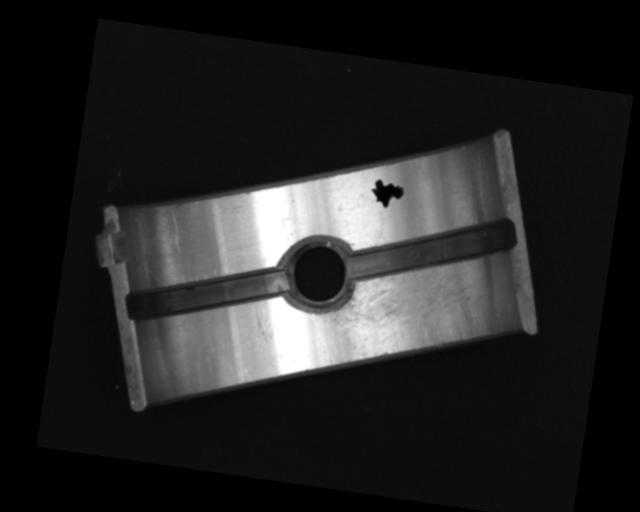blot: (367, 177, 406, 212)
gap: (347, 198, 514, 300), (124, 249, 291, 342)
hole: (277, 227, 360, 318)
nick: (163, 206, 187, 252)
scratch: (309, 242, 496, 392)
